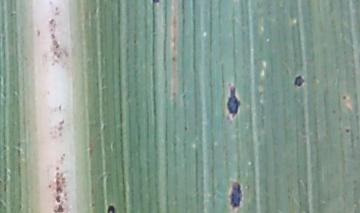tarspot: (225, 85, 241, 118), (228, 180, 243, 210), (292, 74, 304, 90), (150, 1, 162, 12), (53, 204, 64, 213), (106, 205, 117, 213), (34, 27, 42, 37), (47, 17, 55, 26), (57, 118, 66, 126), (340, 93, 348, 101), (54, 194, 61, 203), (57, 103, 63, 113), (9, 11, 17, 18), (49, 32, 56, 40), (182, 125, 189, 132), (344, 127, 350, 134), (53, 43, 60, 49), (47, 183, 52, 190), (171, 55, 176, 62)
